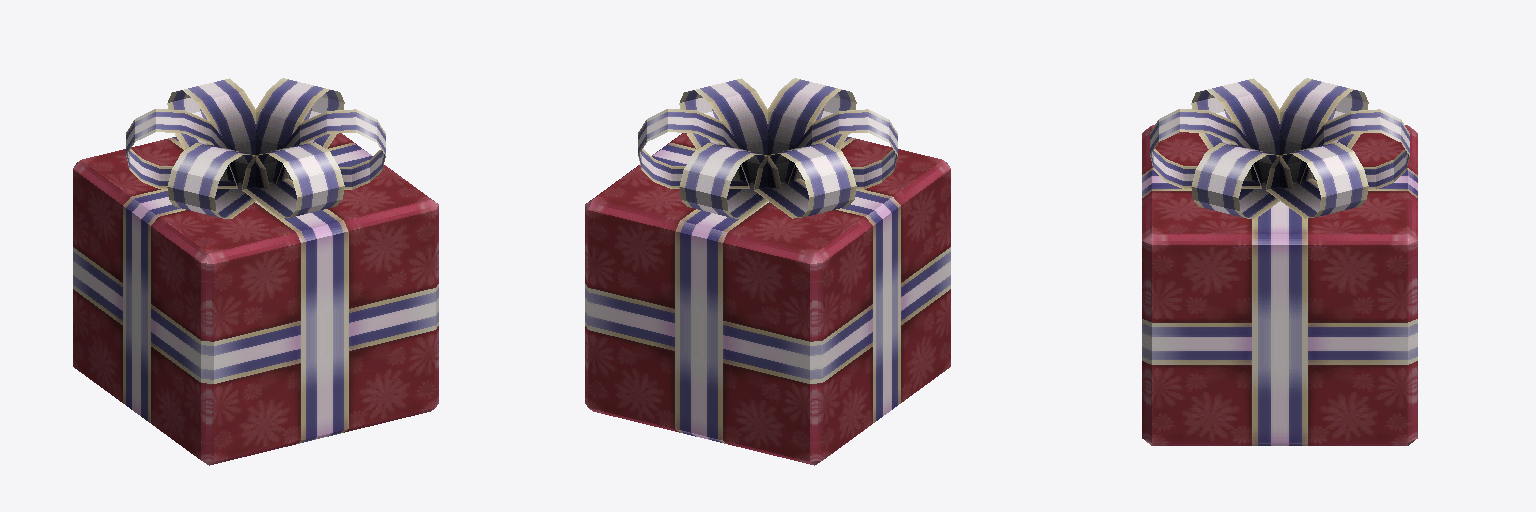
3 views of the same model, side by side, from view 1: azimuth 30°, elevation 25°; view 2: azimuth 150°, elevation 25°; view 3: azimuth 270°, elevation 25° (orthographic).
Parts seen in each view (by area): view 1: polygon0; view 2: polygon0; view 3: polygon0.
Boxes of the visible parts, <box> form: polygon0: <box>73,78,438,465</box>; polygon0: <box>585,78,950,465</box>; polygon0: <box>1142,78,1417,445</box>.
Bounding box in the file's own units: 15 × 16.32 × 15.
Materials: 1 (1 with a texture image).